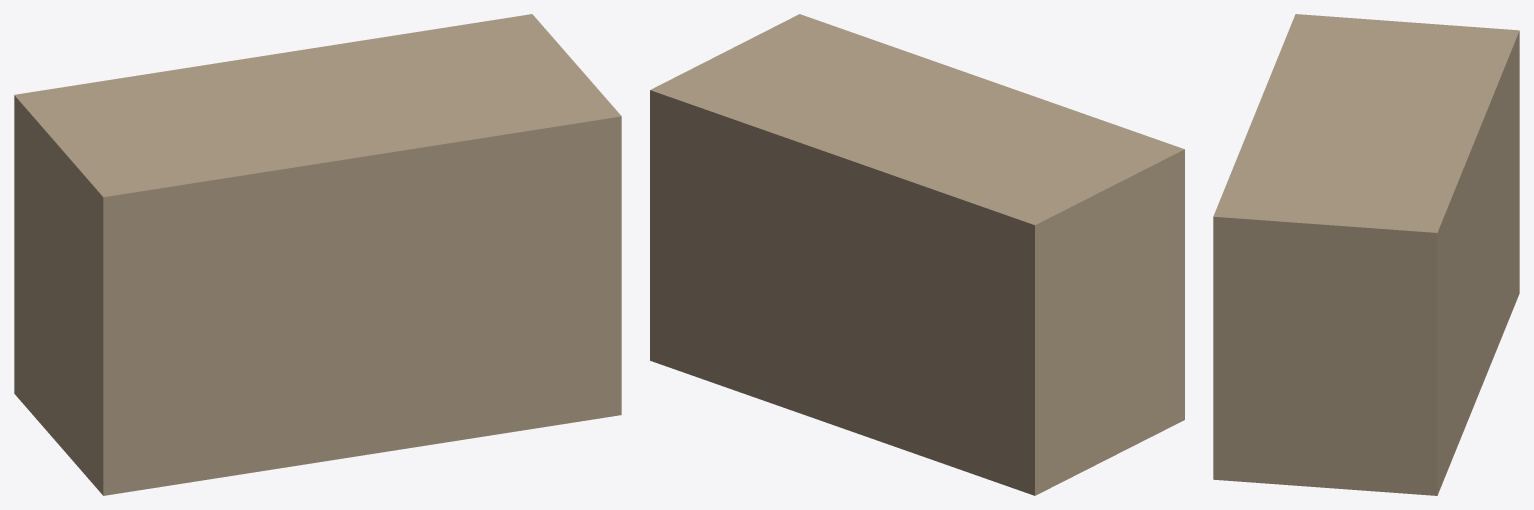
The model's file is bld_100469390.dae.
The picture shows the model from 3 angles, left to right: view 1: azimuth 30°, elevation 25°; view 2: azimuth 150°, elevation 25°; view 3: azimuth 270°, elevation 25°; orthographic projection. The views are drawn at different scales.
Parts seen in each view (by area): view 1: bld_100469390; view 2: bld_100469390; view 3: bld_100469390.
Part boxes in pixels (x1,y1,x2,y2): bld_100469390: (14,14,621,495); bld_100469390: (650,14,1184,495); bld_100469390: (1213,14,1519,495).
Size of the model in its own units: 14.28 by 8.45 by 8.
